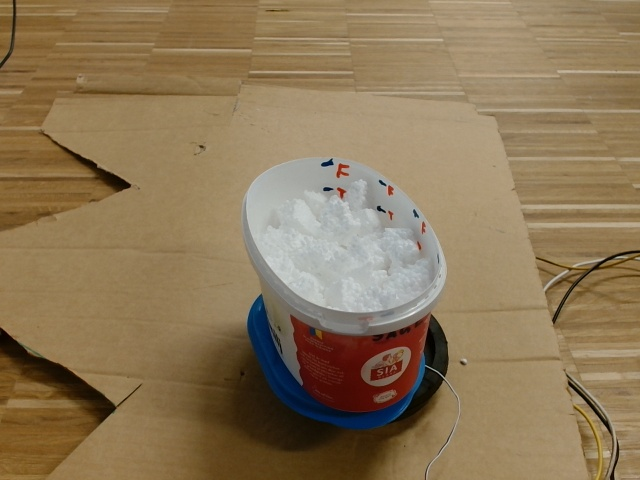Big_threequarter: (241, 153, 449, 333)
